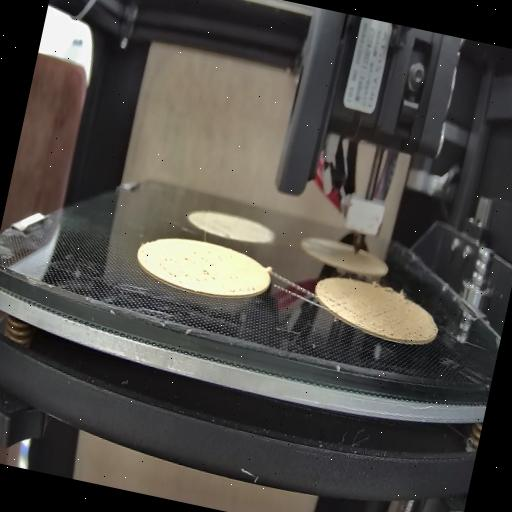under_extrusion: (152, 240, 220, 291), (367, 302, 425, 342), (318, 292, 362, 320), (226, 276, 260, 302)
